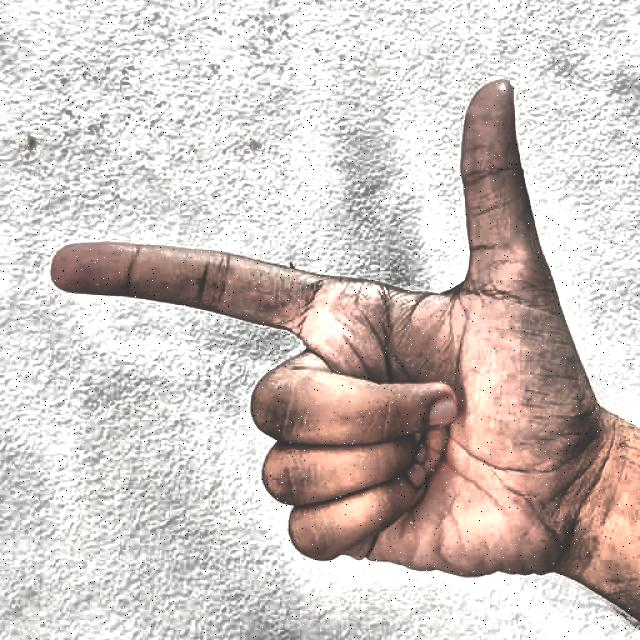Tha: (25, 56, 608, 614)
